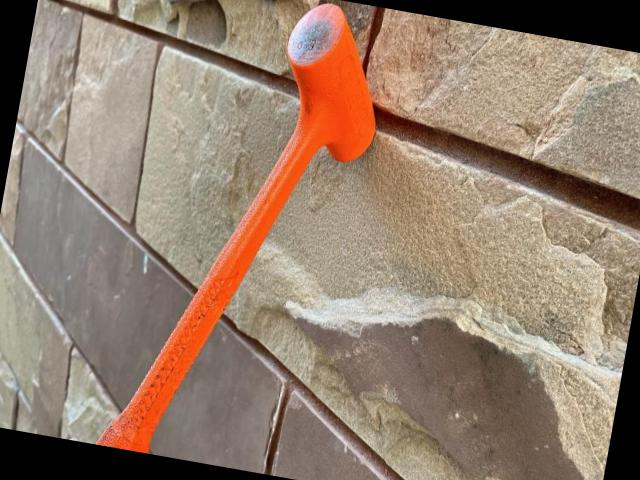hammer: (90, 0, 397, 480)
